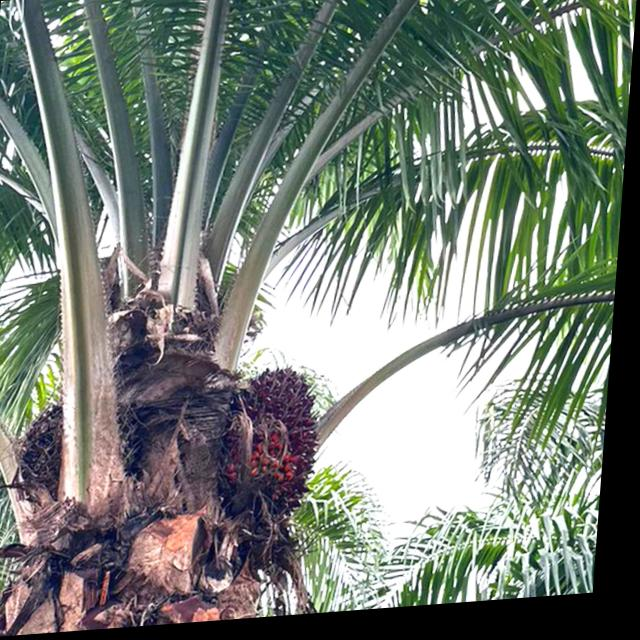ripe: (227, 363, 329, 508)
